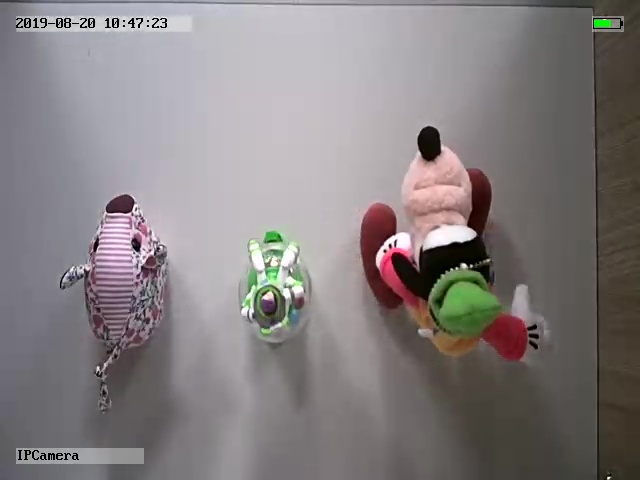buzz: (232, 228, 316, 350)
goofy: (357, 123, 554, 370)
pig: (58, 191, 171, 413)
